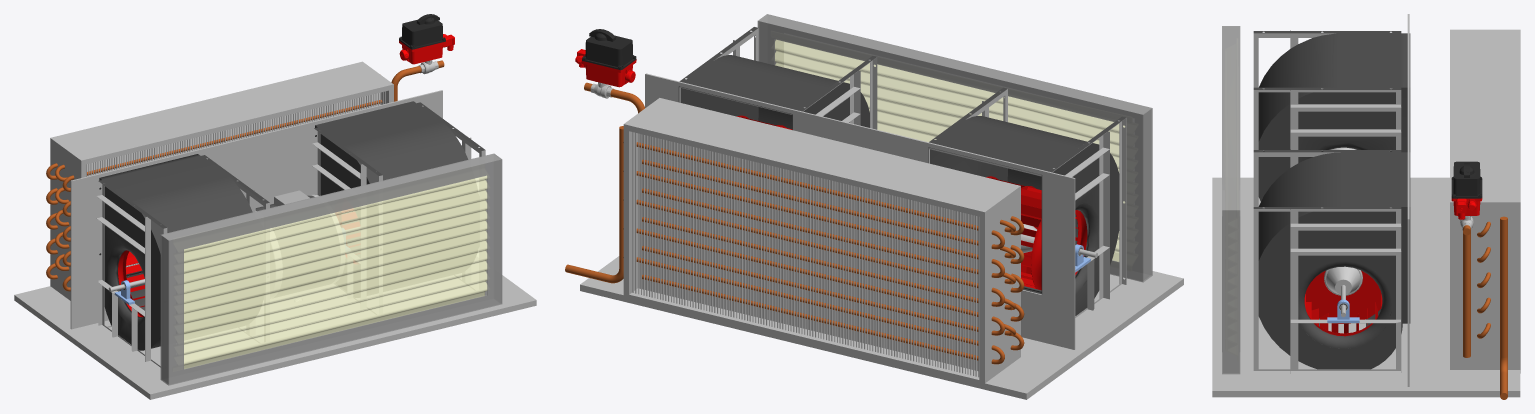
The picture shows the model from 3 angles, left to right: view 1: azimuth 30°, elevation 25°; view 2: azimuth 150°, elevation 25°; view 3: azimuth 270°, elevation 25°; orthographic projection. The views are drawn at different scales.
Parts seen in each view (by area): view 1: Filter_paper005, cooling coil.001, Filter005, cover.002, fans board, fcubase.001, cover.001, frame.002, rad white, valve.001, frame.001, fan.001; view 2: cooling coil.001, rad white, Filter005, fans board, Filter_paper005, cover.002, fcubase.001, cover.001, frame.002, valve.001, fan.001, frame.001 (+1 smaller); view 3: cover.001, fcubase.001, cooling coil.001, cover.002, frame.001, Filter005, frame.002, fan.001, valve.001, in water tube, fans board, out water tube (+2 smaller).
Boxes of the visible parts, bbox=[...] form: Filter_paper005: bbox=[184, 175, 487, 368]; cooling coil.001: bbox=[46, 61, 393, 300]; Filter005: bbox=[160, 153, 502, 385]; cover.002: bbox=[99, 154, 269, 350]; fans board: bbox=[70, 90, 442, 329]; fcubase.001: bbox=[14, 275, 536, 399]; cover.001: bbox=[314, 101, 484, 195]; frame.002: bbox=[96, 177, 269, 367]; rad white: bbox=[87, 93, 380, 266]; valve.001: bbox=[399, 14, 454, 74]; frame.001: bbox=[312, 105, 485, 195]; fan.001: bbox=[118, 250, 144, 317]; cooling coil.001: bbox=[623, 98, 1024, 386]; rad white: bbox=[639, 133, 978, 370]; Filter005: bbox=[757, 14, 1152, 282]; fans board: bbox=[645, 73, 1075, 349]; Filter_paper005: bbox=[775, 39, 1125, 261]; cover.002: bbox=[928, 87, 1125, 315]; fcubase.001: bbox=[580, 256, 1183, 399]; cover.001: bbox=[678, 27, 876, 130]; frame.002: bbox=[935, 89, 1126, 317]; valve.001: bbox=[575, 29, 636, 98]; fan.001: bbox=[737, 115, 1087, 290]; frame.001: bbox=[714, 28, 877, 129]; cover.001: bbox=[1253, 149, 1410, 369]; fcubase.001: bbox=[1212, 177, 1520, 397]; cooling coil.001: bbox=[1450, 29, 1520, 373]; cover.002: bbox=[1253, 30, 1410, 201]; frame.001: bbox=[1253, 150, 1401, 373]; Filter005: bbox=[1222, 26, 1240, 374]; frame.002: bbox=[1253, 33, 1401, 149]; fan.001: bbox=[1304, 270, 1382, 336]; valve.001: bbox=[1451, 161, 1482, 230]; in water tube: bbox=[1500, 216, 1507, 399]; fans board: bbox=[1407, 14, 1409, 386]; out water tube: bbox=[1463, 225, 1470, 357].
Size of the model in its own units: 3.76 by 1.8 by 2.15.
